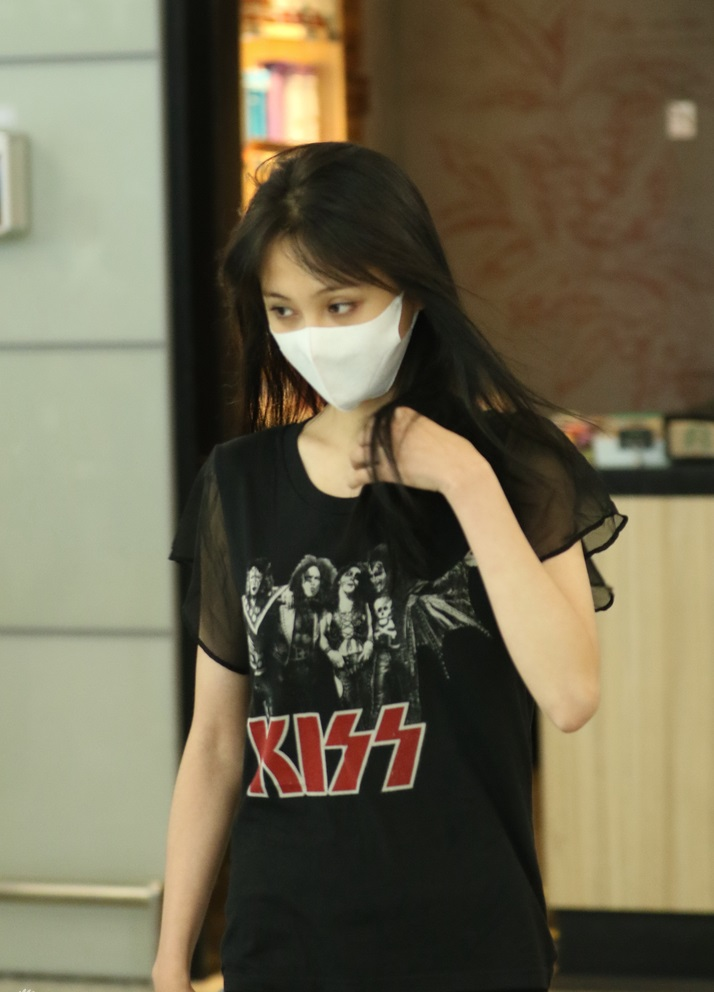face_mask: (259, 218, 394, 407)
